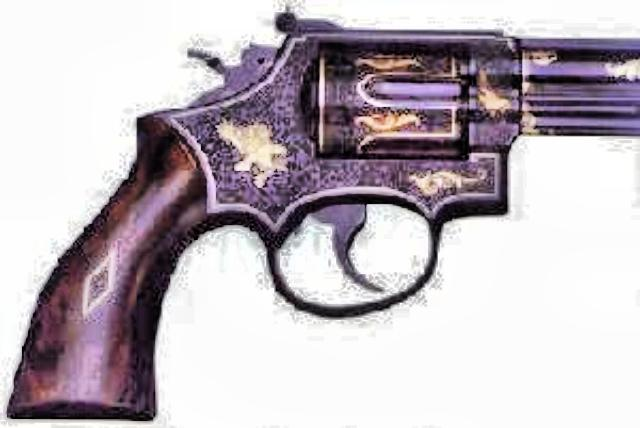pistol: (0, 2, 638, 420)
